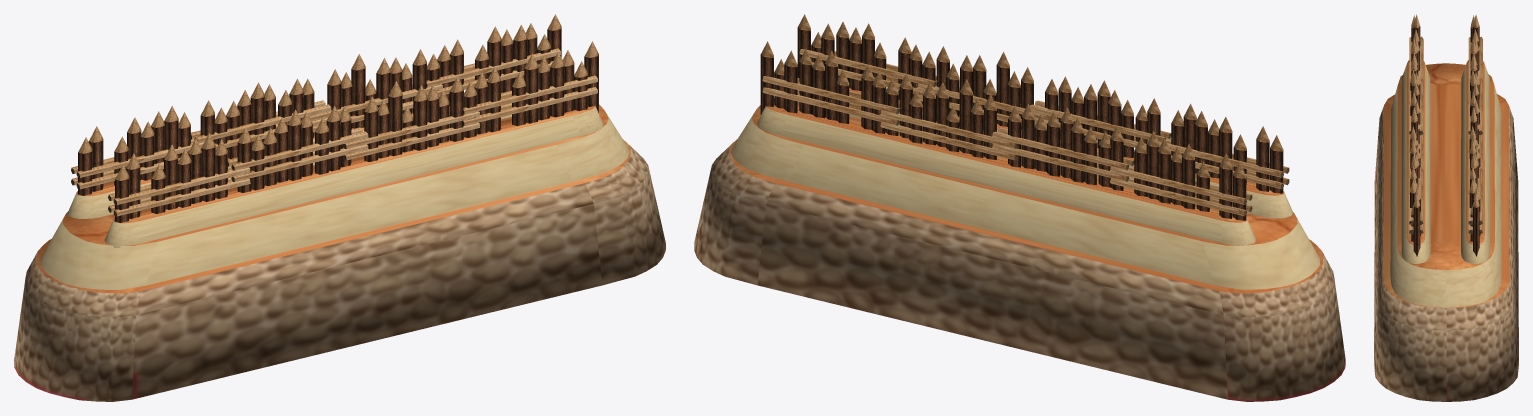
The model's file is wall_long.dae.
3 renders of one model, left to right at view 1: azimuth 30°, elevation 25°; view 2: azimuth 150°, elevation 25°; view 3: azimuth 270°, elevation 25°, orthographic. The views are drawn at different scales.
Visible parts, largest first — view 1: wall_long; view 2: wall_long; view 3: wall_long.
Boxes of the visible parts, box(x1,y1,x2,y2) form: wall_long: box(14, 14, 665, 401); wall_long: box(694, 14, 1345, 401); wall_long: box(1374, 14, 1518, 401).
Bounding box in the file's own units: 46.76 × 11.66 × 16.41.
Materials: 1 (1 with a texture image).
